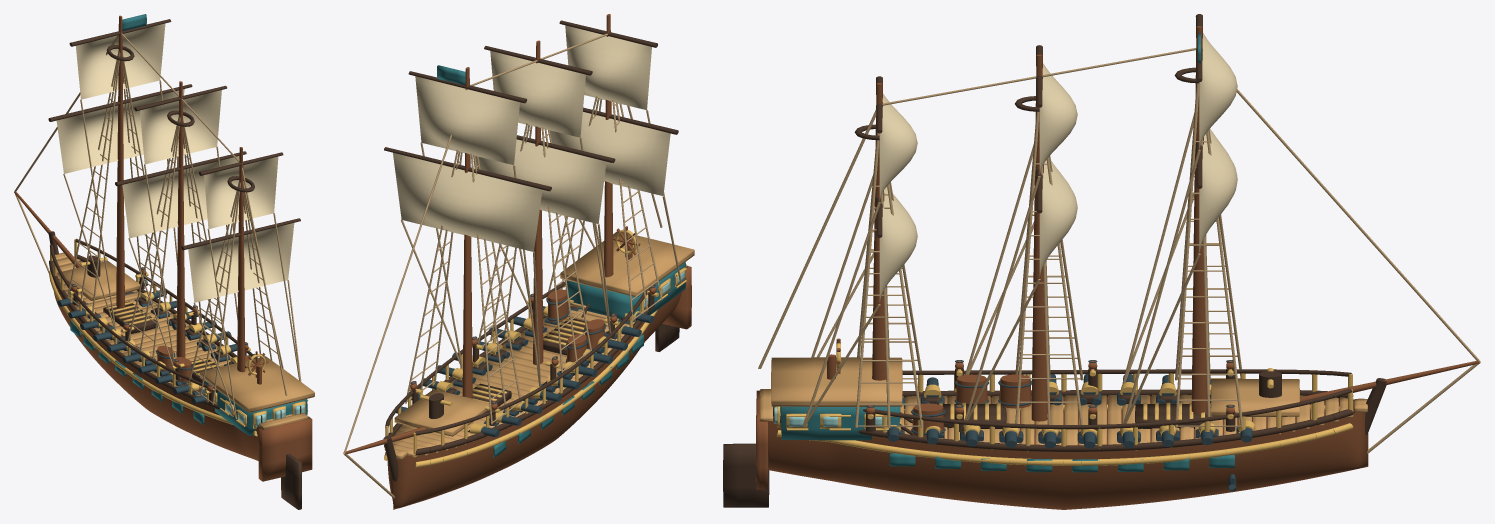
File: frigate.glb
3 views of the same model, side by side, from view 1: azimuth 30°, elevation 25°; view 2: azimuth 150°, elevation 25°; view 3: azimuth 270°, elevation 25° (orthographic). The views are drawn at different scales.
Visible parts, largest first — view 1: _MeshInstance3D_84, _MeshInstance3D_90, _MeshInstance3D_89, _MeshInstance3D_85, _MeshInstance3D_83, _MeshInstance3D_87, _MeshInstance3D_79, _MeshInstance3D_78, _MeshInstance3D_81, _MeshInstance3D_80, _MeshInstance3D_82, _MeshInstance3D_91 (+2 smaller); view 2: _MeshInstance3D_84, _MeshInstance3D_90, _MeshInstance3D_85, _MeshInstance3D_89, _MeshInstance3D_79, _MeshInstance3D_78, _MeshInstance3D_87, _MeshInstance3D_81, _MeshInstance3D_83, _MeshInstance3D_80, _MeshInstance3D_82, _MeshInstance3D_91 (+1 smaller); view 3: _MeshInstance3D_84, _MeshInstance3D_90, _MeshInstance3D_89, _MeshInstance3D_85, _MeshInstance3D_87, _MeshInstance3D_86, _MeshInstance3D_91, _MeshInstance3D_79, _MeshInstance3D_81, _MeshInstance3D_83, _MeshInstance3D_78, _MeshInstance3D_80 (+1 smaller).
Part boxes in pixels (x1=…): _MeshInstance3D_84: x1=14, y1=15, x2=312, y2=481; _MeshInstance3D_90: x1=14, y1=33, x2=301, y2=418; _MeshInstance3D_89: x1=48, y1=19, x2=301, y2=509; _MeshInstance3D_85: x1=53, y1=252, x2=314, y2=429; _MeshInstance3D_83: x1=188, y1=223, x2=294, y2=302; _MeshInstance3D_87: x1=49, y1=239, x2=308, y2=436; _MeshInstance3D_79: x1=56, y1=89, x2=184, y2=173; _MeshInstance3D_78: x1=76, y1=23, x2=165, y2=99; _MeshInstance3D_81: x1=122, y1=156, x2=239, y2=238; _MeshInstance3D_80: x1=140, y1=90, x2=221, y2=164; _MeshInstance3D_82: x1=204, y1=156, x2=278, y2=229; _MeshInstance3D_91: x1=57, y1=267, x2=255, y2=403; _MeshInstance3D_84: x1=345, y1=14, x2=691, y2=509; _MeshInstance3D_90: x1=343, y1=33, x2=681, y2=498; _MeshInstance3D_85: x1=384, y1=231, x2=694, y2=459; _MeshInstance3D_89: x1=383, y1=20, x2=679, y2=481; _MeshInstance3D_79: x1=393, y1=152, x2=542, y2=251; _MeshInstance3D_78: x1=415, y1=76, x2=519, y2=165; _MeshInstance3D_87: x1=384, y1=229, x2=686, y2=467; _MeshInstance3D_81: x1=473, y1=139, x2=606, y2=223; _MeshInstance3D_83: x1=550, y1=112, x2=670, y2=195; _MeshInstance3D_80: x1=490, y1=51, x2=585, y2=137; _MeshInstance3D_82: x1=565, y1=25, x2=651, y2=110; _MeshInstance3D_91: x1=395, y1=284, x2=655, y2=437; _MeshInstance3D_84: x1=756, y1=26, x2=1479, y2=509; _MeshInstance3D_90: x1=758, y1=48, x2=1480, y2=453; _MeshInstance3D_89: x1=723, y1=14, x2=1386, y2=507; _MeshInstance3D_85: x1=760, y1=357, x2=1367, y2=445; _MeshInstance3D_87: x1=776, y1=342, x2=1353, y2=465; _MeshInstance3D_86: x1=780, y1=33, x2=1234, y2=472; _MeshInstance3D_91: x1=866, y1=360, x2=1252, y2=491; _MeshInstance3D_79: x1=1199, y1=128, x2=1237, y2=253; _MeshInstance3D_81: x1=1039, y1=160, x2=1077, y2=277; _MeshInstance3D_83: x1=879, y1=187, x2=917, y2=302; _MeshInstance3D_78: x1=1199, y1=33, x2=1237, y2=149; _MeshInstance3D_80: x1=1039, y1=63, x2=1077, y2=174.
Bounding box in the file's own units: 3.66 × 8.94 × 12.79.
